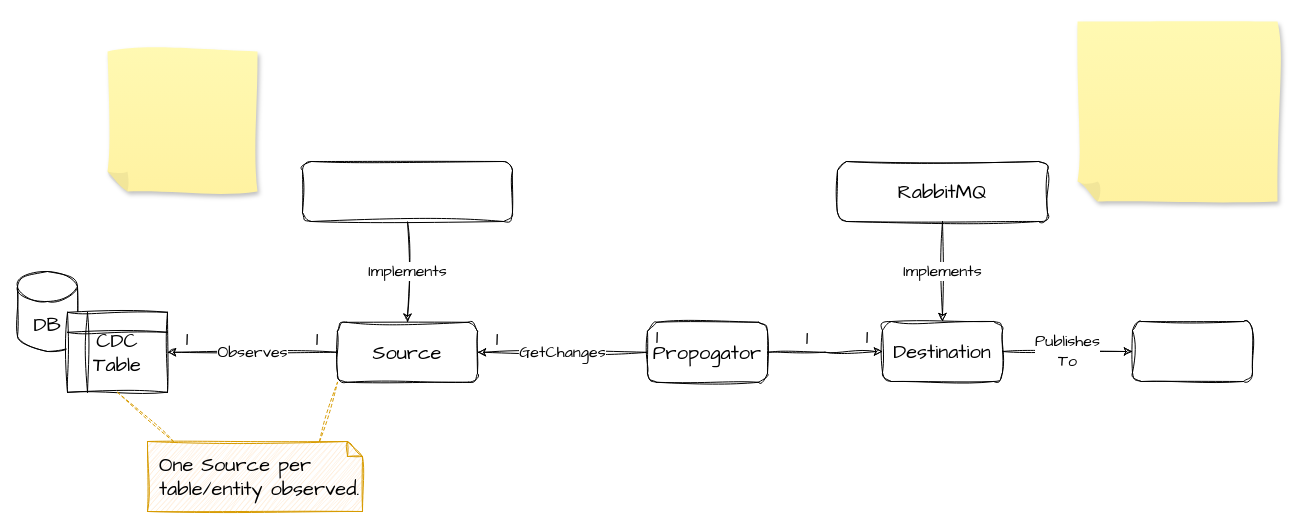
This 1301x529 diagram has some shape labels left out. Each missing label, with the centre of its shape:
Event Bus: (1192,351)
RabbitMQ ActiveMQ Azure Service Bus AWS SQS Kafka AWS Kinesis: (1178,112)
SQL Server Oracle PostgreSQL MongoDB: (183,122)
SqlServerSource: (407,191)
